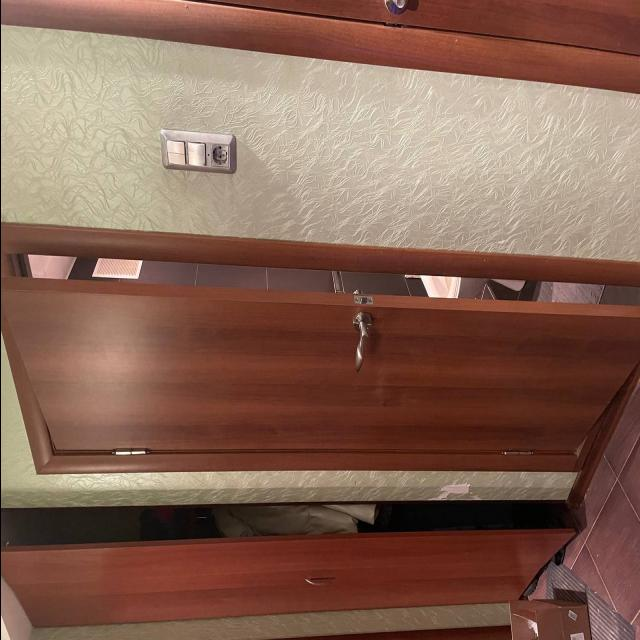open: (4, 228, 626, 487)
